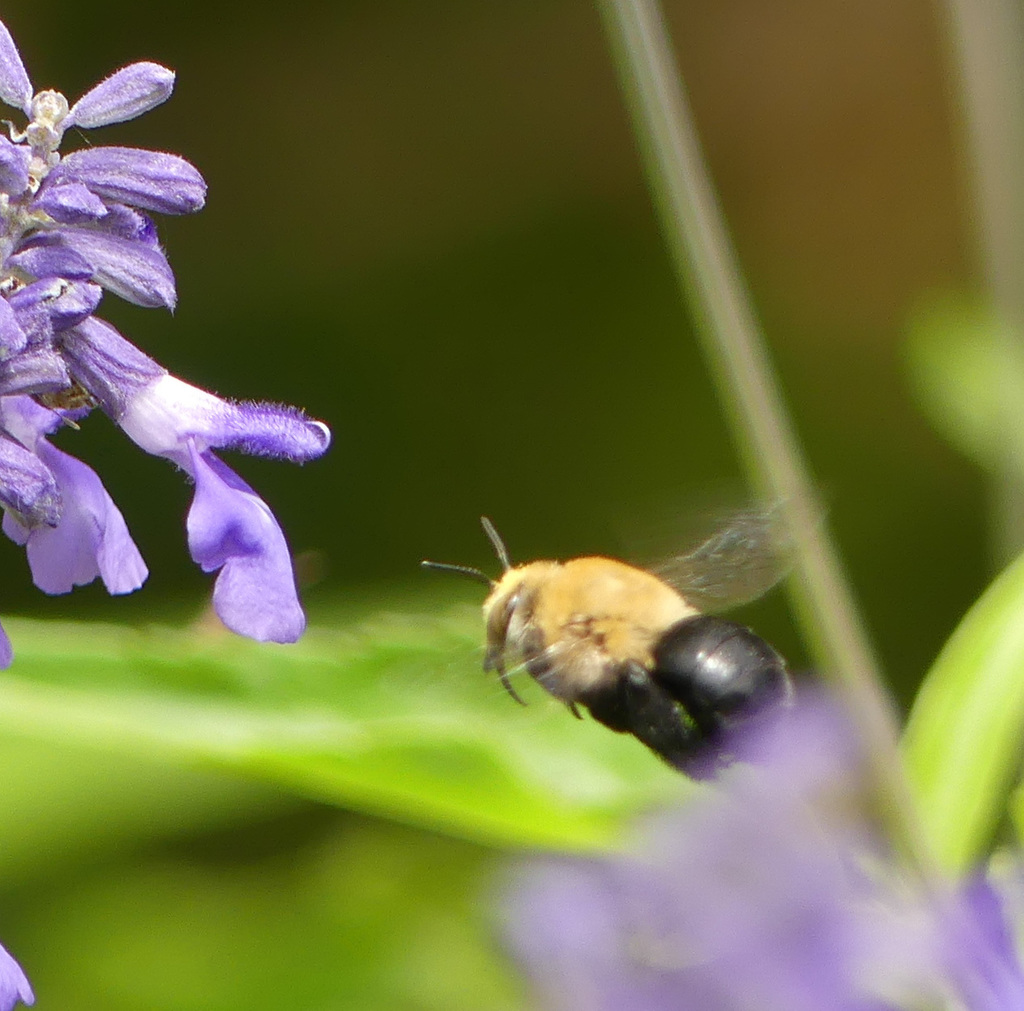not_bumblebee: (419, 473, 827, 792)
